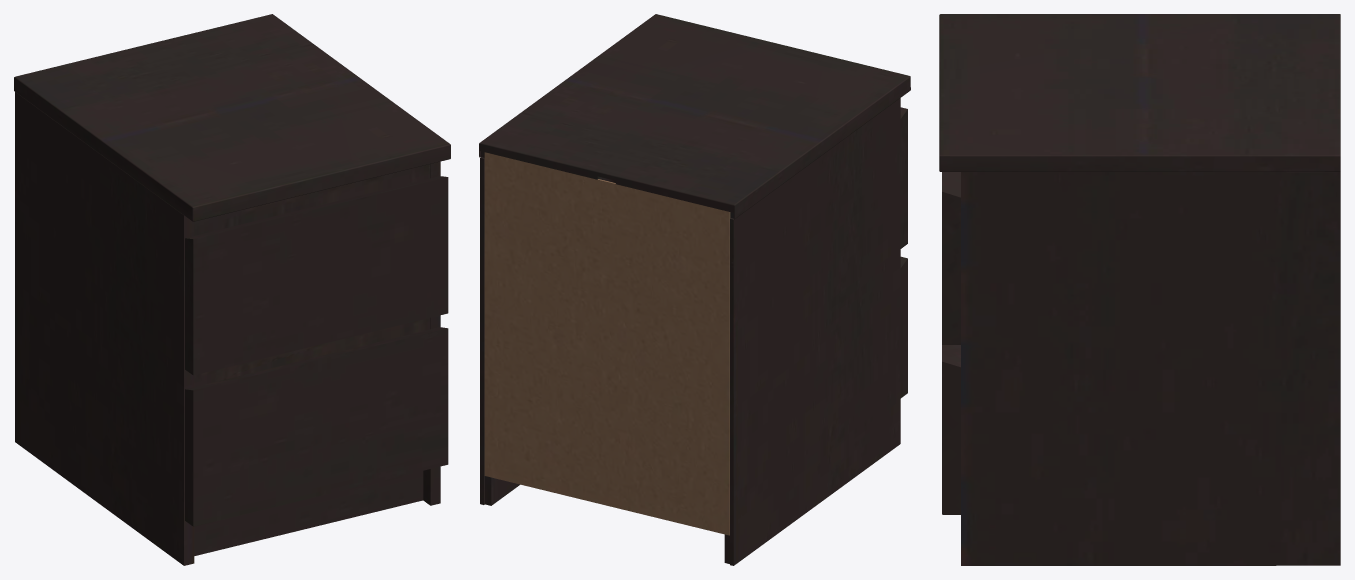
Rendered from malm-comoda-de-2-cajones-negro-marron.glb.
The picture shows the model from 3 angles, left to right: view 1: azimuth 30°, elevation 25°; view 2: azimuth 150°, elevation 25°; view 3: azimuth 270°, elevation 25°; orthographic projection. The views are drawn at different scales.
Parts seen in each view (by area): view 1: model; view 2: model; view 3: model.
Part boxes in pixels (x1,y1,x2,y2): model: (14, 14, 450, 565); model: (479, 14, 910, 565); model: (939, 14, 1340, 565).
Size of the model in its own units: 0.403 by 0.5445 by 0.482.
1 material, 1 textured.
